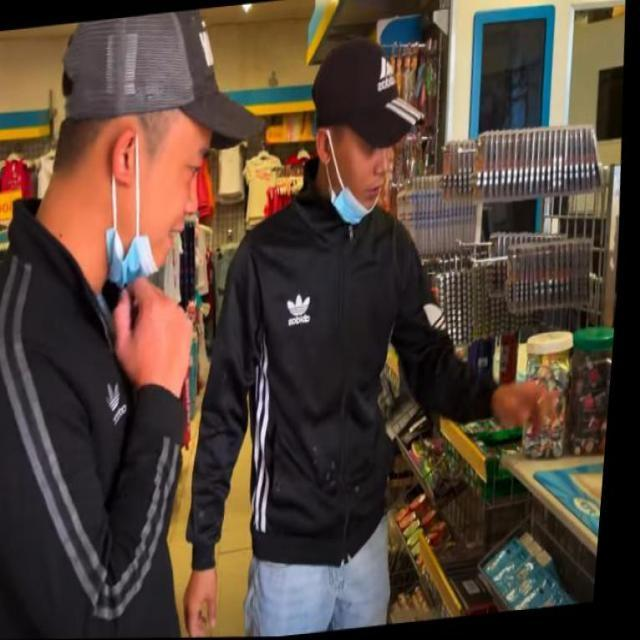hairnet: (99, 134, 219, 293), (328, 148, 393, 230)
